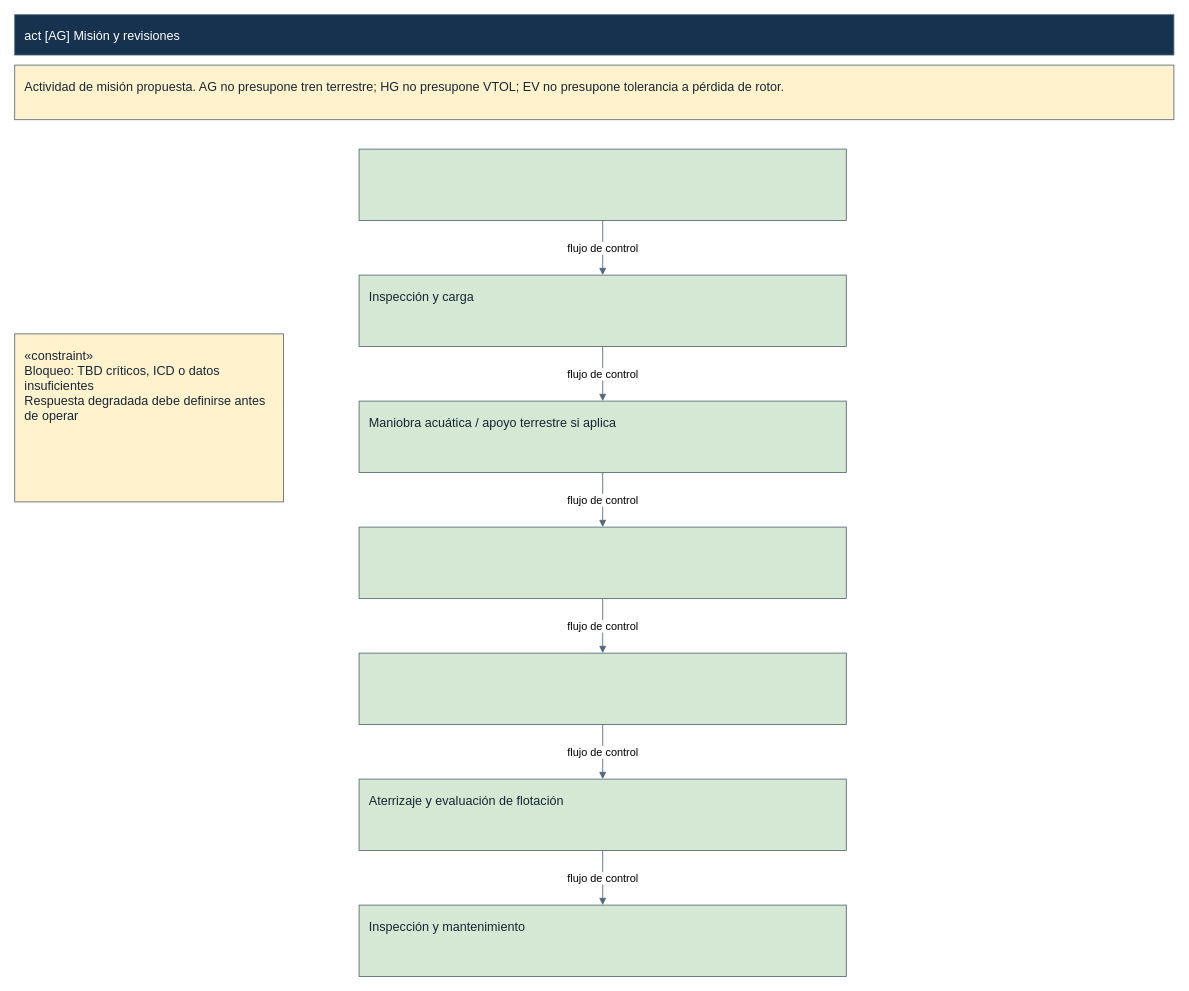
Image size: 1189x991. Some labels were removed from this diagram. The centre of each missing label's shape, as x and y in pixels:
Aprobar misión y AG-D-03: (602,184)
Despegue y vuelo en envolvente: (602,688)
Prerrotación si AG-D-05 la confirma: (602,562)
